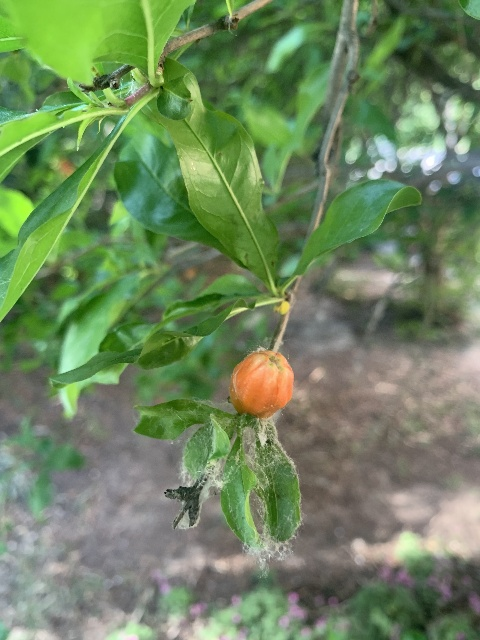bud: (230, 350, 293, 420)
